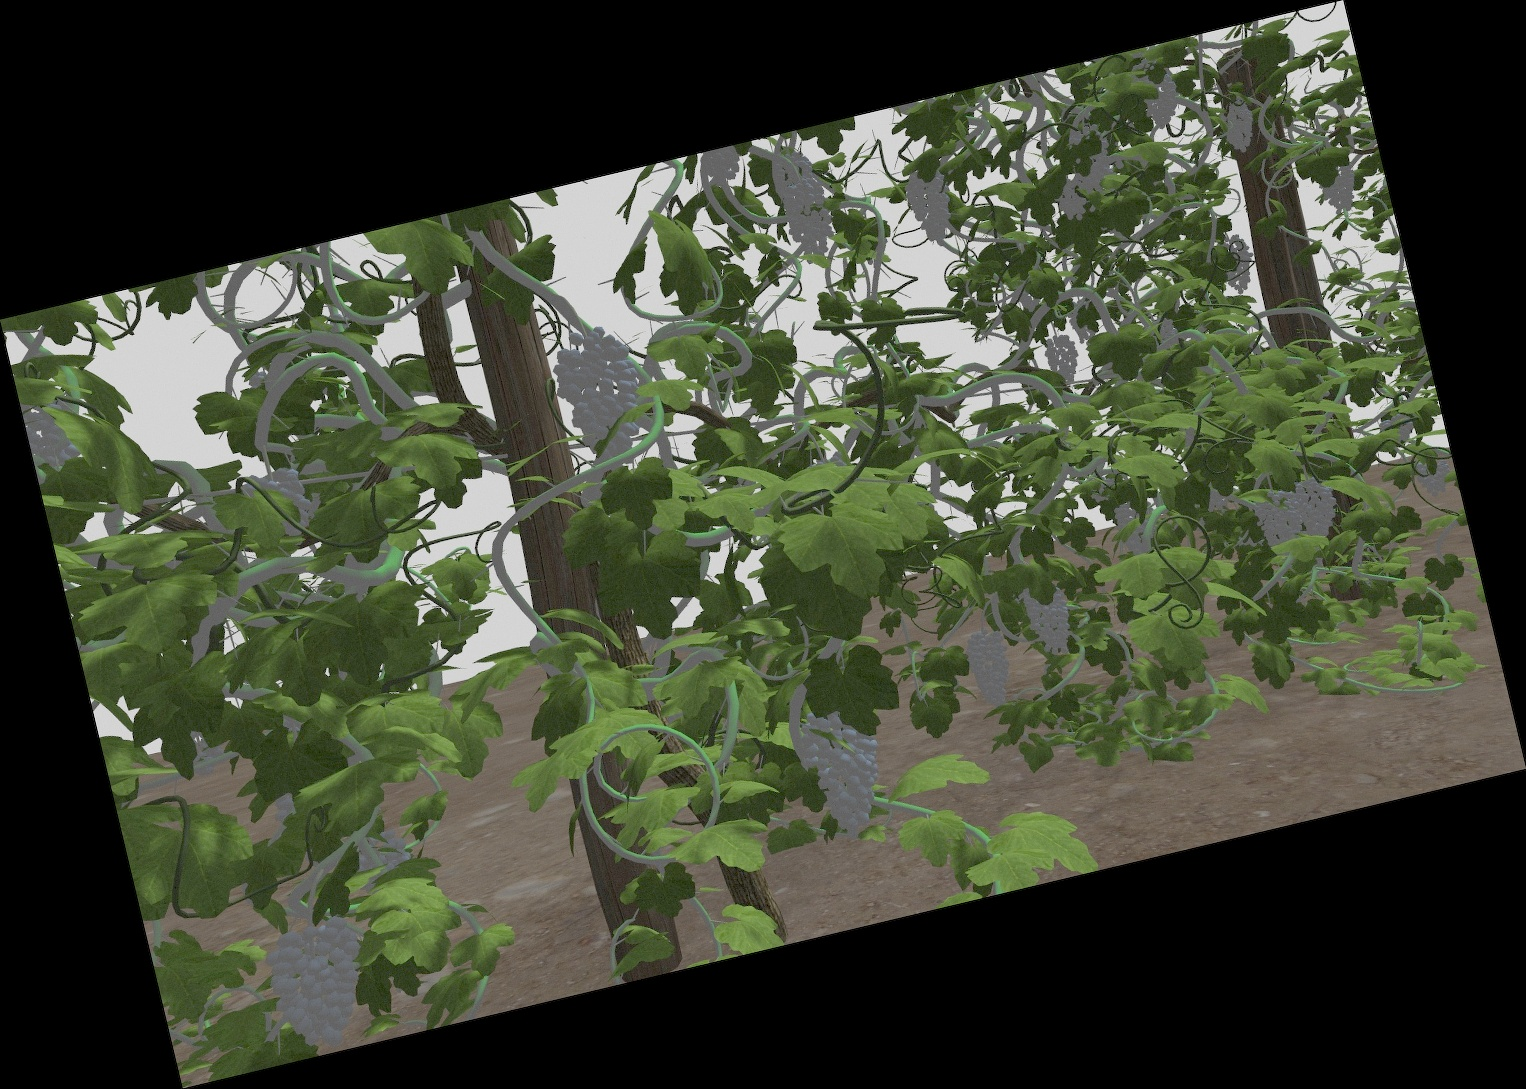grape: (270, 918, 369, 1043), (560, 325, 643, 469), (804, 709, 884, 841), (778, 147, 831, 259), (907, 164, 954, 246), (967, 627, 1016, 706), (1029, 583, 1074, 658), (1256, 488, 1303, 556), (1296, 471, 1337, 541), (1141, 59, 1180, 130), (1221, 95, 1255, 154), (1046, 332, 1081, 389), (1322, 158, 1356, 213), (1224, 235, 1255, 293), (1418, 447, 1453, 497)
